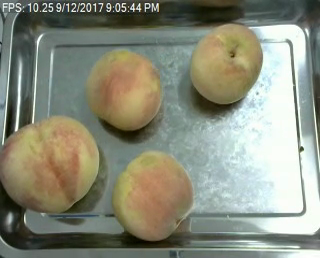Peach: (0, 114, 99, 213), (111, 151, 193, 242), (84, 47, 162, 130), (190, 23, 263, 106)
